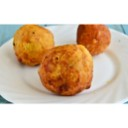bonda: (40, 47, 93, 93), (13, 24, 55, 65), (76, 25, 111, 56)
